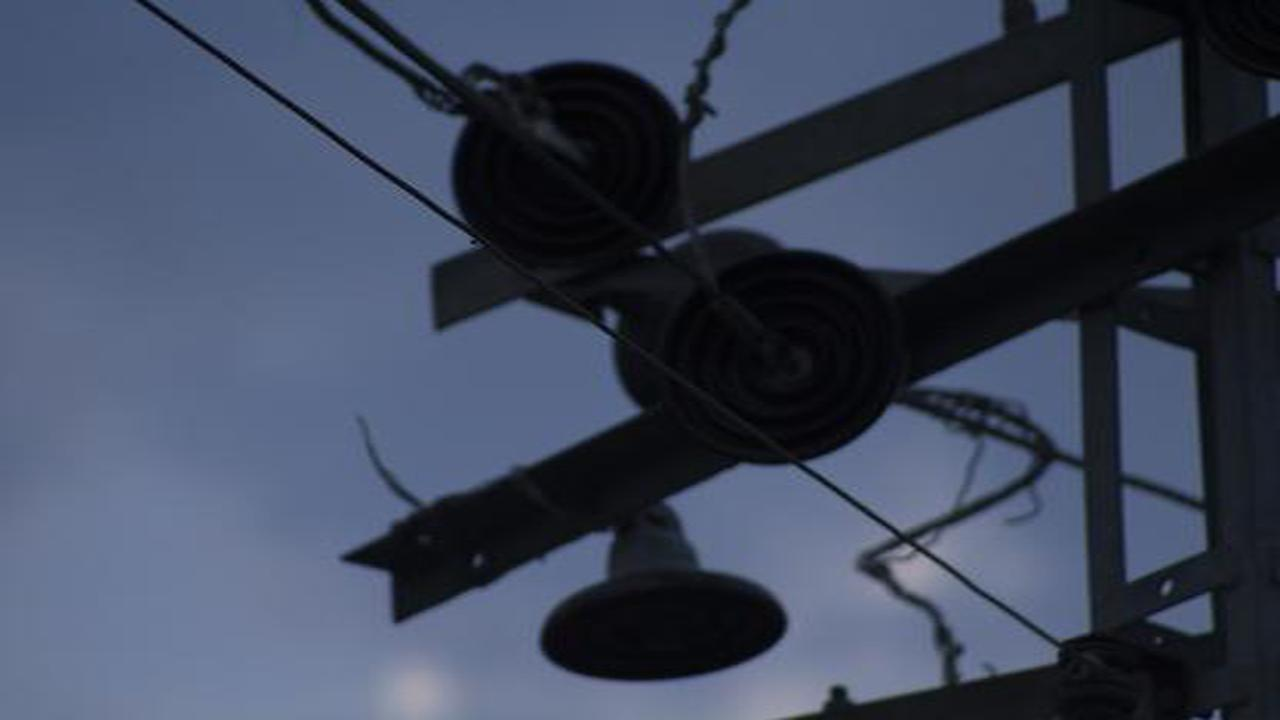insulator_disc: (642, 247, 917, 471), (449, 58, 690, 273), (541, 507, 798, 689)
